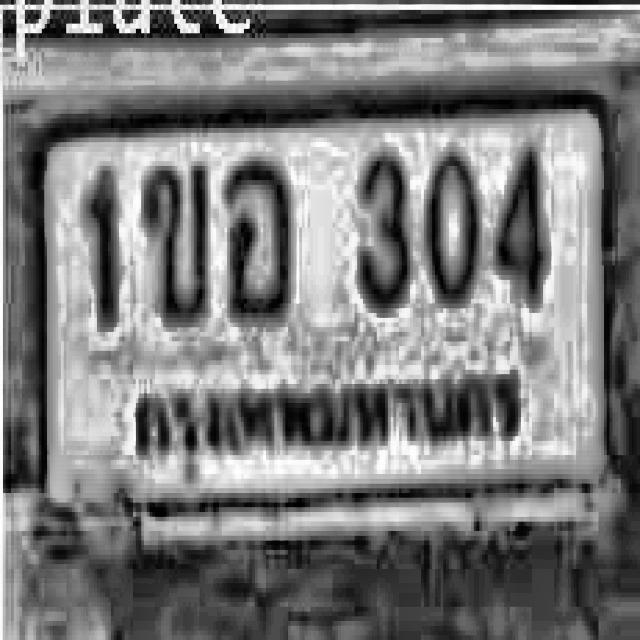license-plate: (19, 96, 617, 576)
